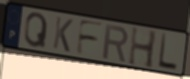F: (74, 18, 105, 57)
H: (127, 25, 159, 71)
K: (51, 15, 74, 54)
L: (157, 32, 179, 72)
Q: (23, 11, 49, 50)
R: (101, 23, 130, 64)
